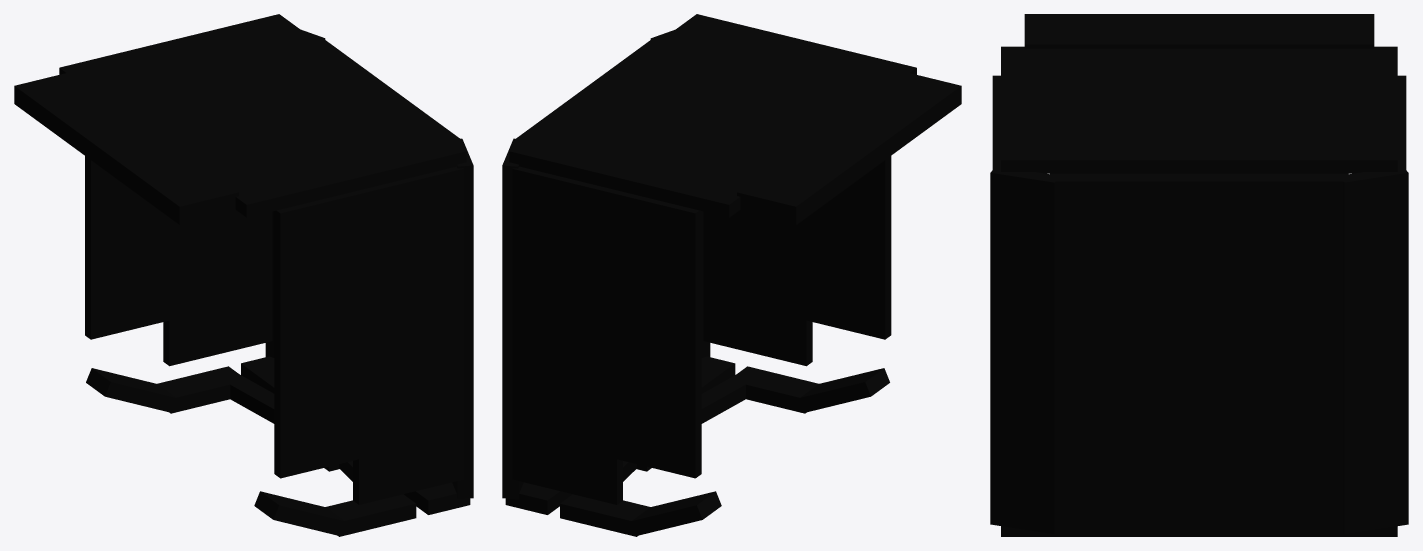
File: bench_helmet_4.obj
3 views of the same model, side by side, from view 1: azimuth 30°, elevation 25°; view 2: azimuth 150°, elevation 25°; view 3: azimuth 270°, elevation 25° (orthographic). The views are drawn at different scales.
Parts seen in each view (by area): view 1: geometry; view 2: geometry; view 3: geometry.
Part boxes in pixels (left/top/right/bottom): geometry: left=14, top=14, right=473, bottom=536; geometry: left=502, top=14, right=961, bottom=536; geometry: left=990, top=14, right=1408, bottom=536.
Size of the model in its own units: 0.2162 by 0.25 by 0.2493.
